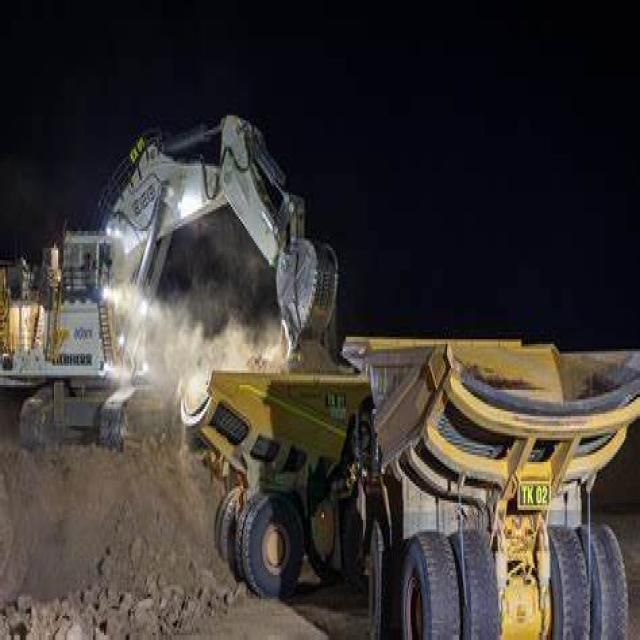dump_truck: (339, 324, 637, 638), (164, 354, 368, 602)
excavator: (4, 77, 343, 404)
